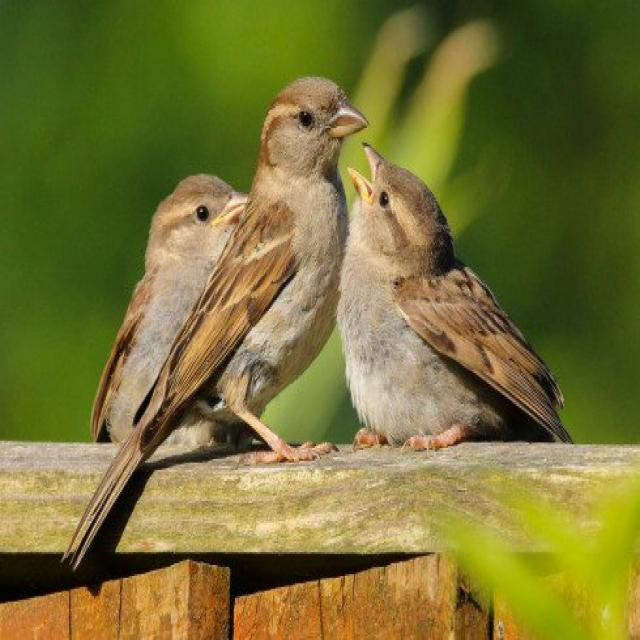sparrow: (65, 77, 367, 569), (336, 143, 571, 448), (91, 174, 246, 441)
